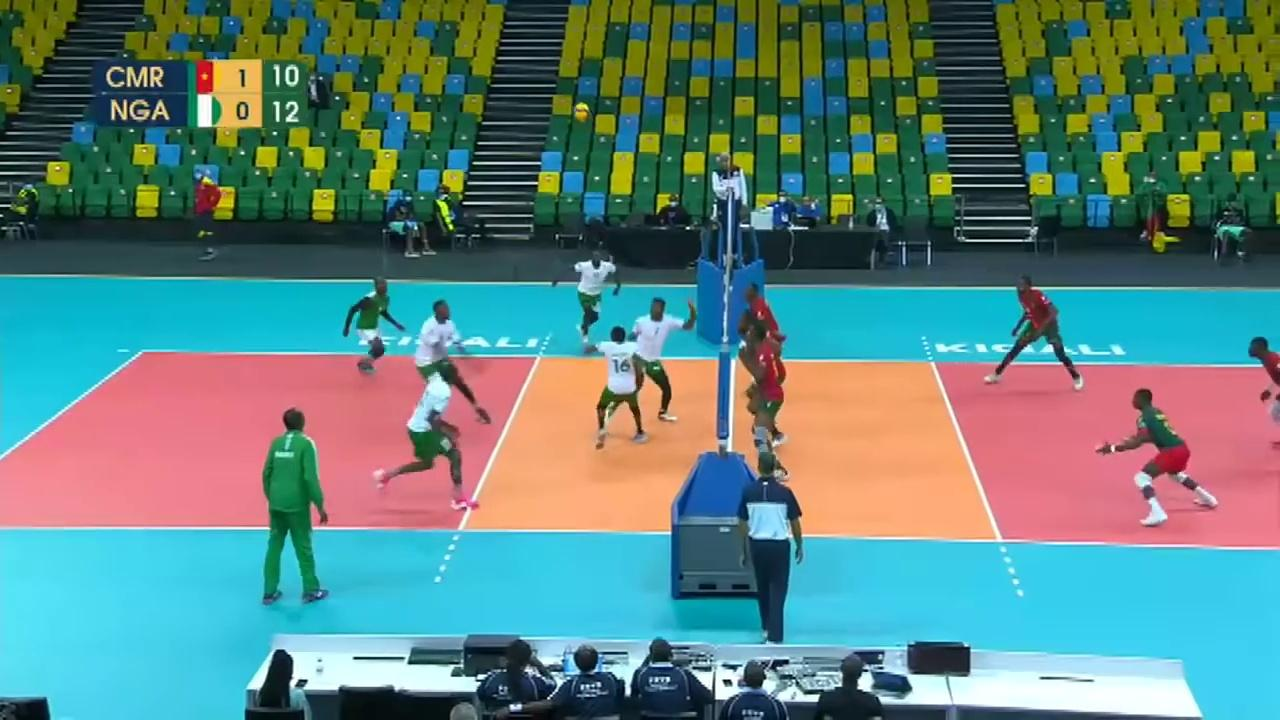player: (371, 364, 489, 516), (1093, 390, 1223, 522), (576, 323, 666, 452), (987, 276, 1085, 388), (615, 296, 699, 425), (414, 298, 496, 428), (344, 278, 411, 383), (741, 311, 788, 451), (744, 324, 785, 484), (1239, 331, 1280, 460), (750, 280, 784, 419), (572, 246, 615, 349)
refree: (735, 451, 809, 645), (709, 150, 748, 251)
